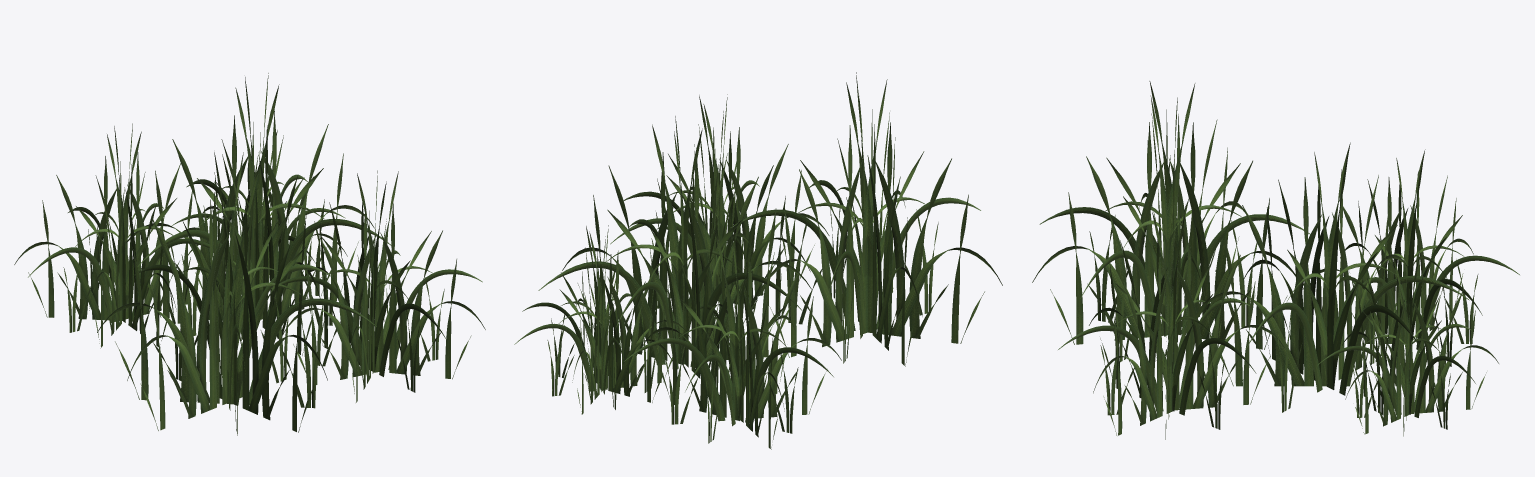
The model's file is SM_grass_patch_a_large.fbx.
The picture shows the model from 3 angles, left to right: view 1: azimuth 30°, elevation 25°; view 2: azimuth 150°, elevation 25°; view 3: azimuth 270°, elevation 25°; orthographic projection.
Parts seen in each view (by area): view 1: SM_grass_patch_a_large; view 2: SM_grass_patch_a_large; view 3: SM_grass_patch_a_large.
Boxes of the visible parts, x1=… form: SM_grass_patch_a_large: x1=14, y1=73, x2=485, y2=435; SM_grass_patch_a_large: x1=514, y1=72, x2=1002, y2=449; SM_grass_patch_a_large: x1=1032, y1=81, x2=1519, y2=439.
Size of the model in its own units: 30.93 by 34.78 by 21.14.
1 material, 1 textured.
